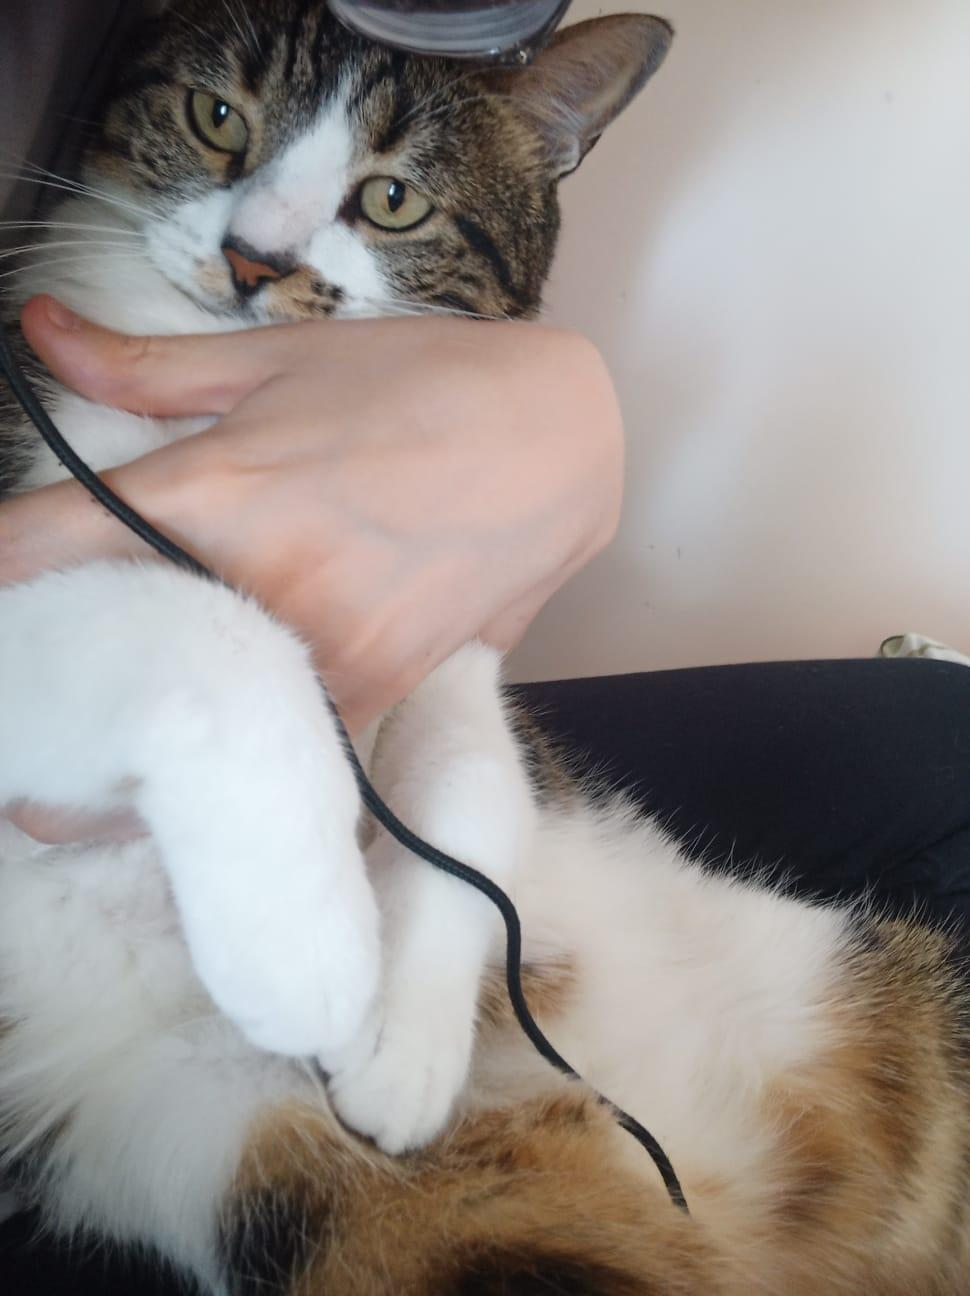kedo: (77, 10, 669, 332)
